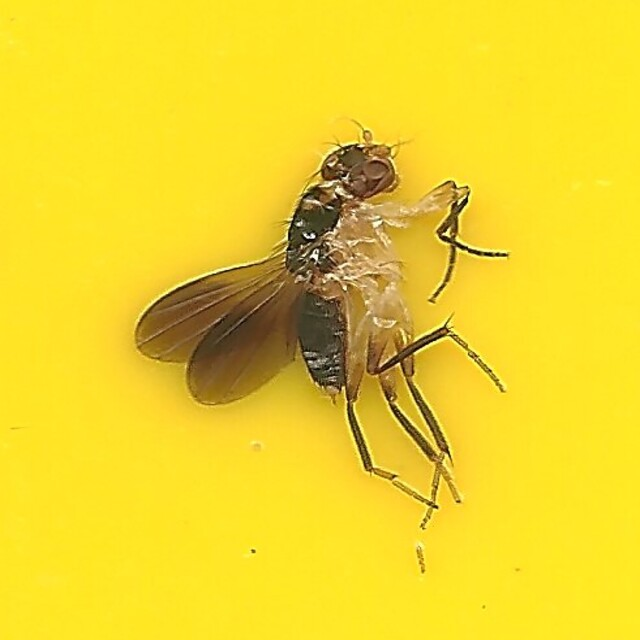Brachycera: (130, 121, 510, 519)
